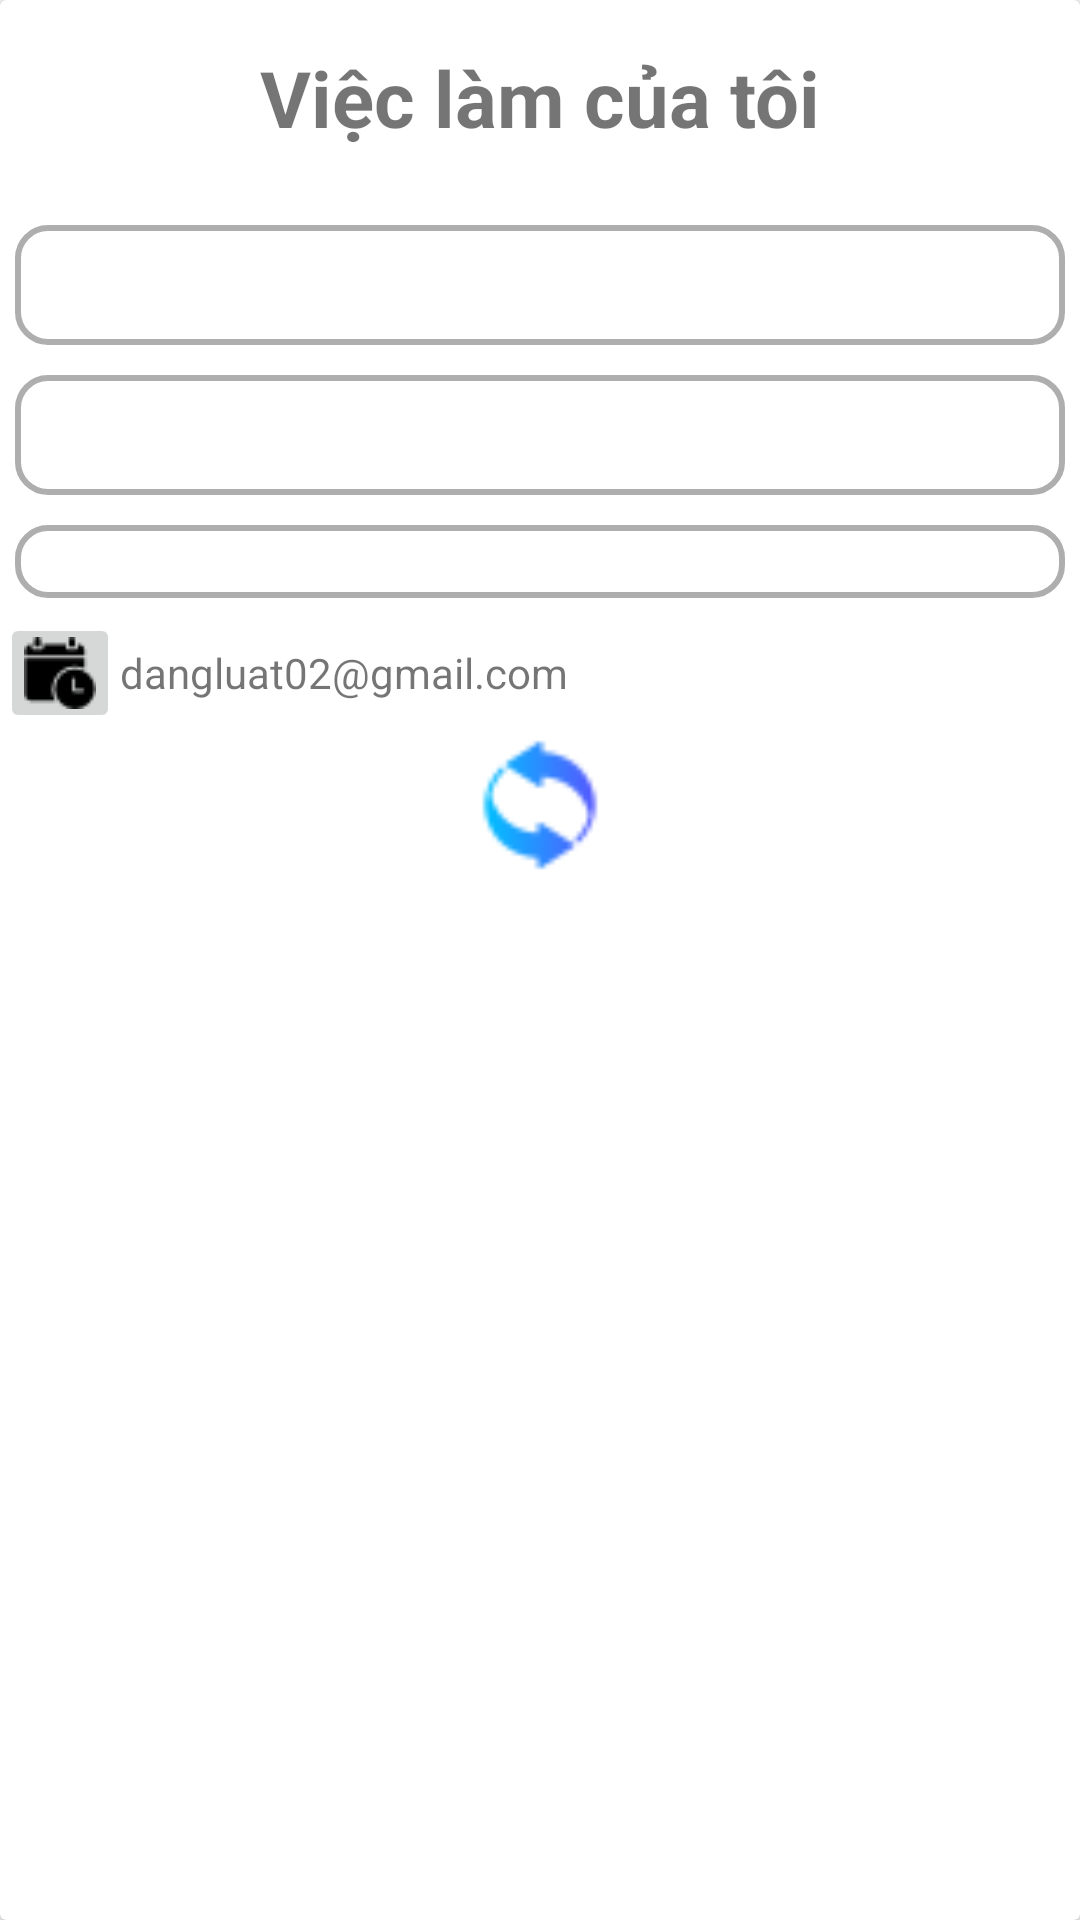

Locate icon controls on the screen. Image size 1080*1920, boxes as [x1=x1, y1=y1, x2=x2, y2=y2].
event: [x1=12, y1=631, x2=108, y2=715]
rotation: [x1=482, y1=740, x2=598, y2=870]
